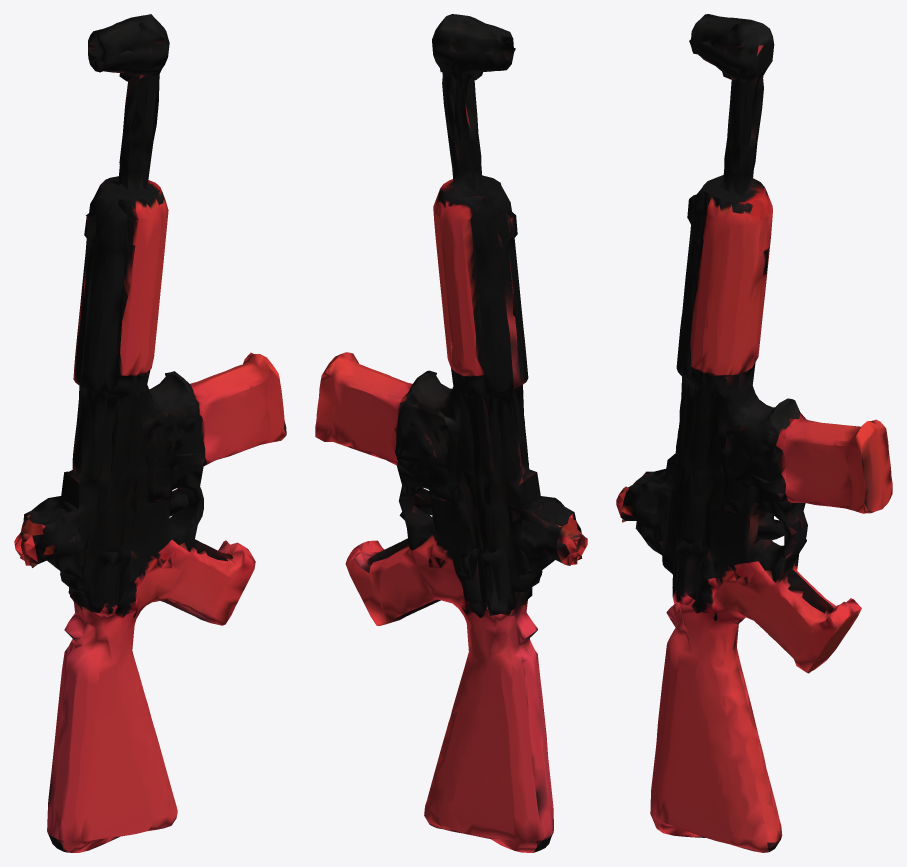
The model's file is gun.glb.
3 views of the same model, side by side, from view 1: azimuth 30°, elevation 25°; view 2: azimuth 150°, elevation 25°; view 3: azimuth 330°, elevation 25° (orthographic).
Parts seen in each view (by area): view 1: texture_pbr_v128; view 2: texture_pbr_v128; view 3: texture_pbr_v128.
Part boxes in pixels (bbox=[...]): texture_pbr_v128: bbox=[14, 14, 286, 852]; texture_pbr_v128: bbox=[315, 14, 587, 852]; texture_pbr_v128: bbox=[616, 14, 892, 852].
Bounding box in the file's own units: 0.2864 × 0.863 × 0.0744.
Materials: 1 (1 with a texture image).
